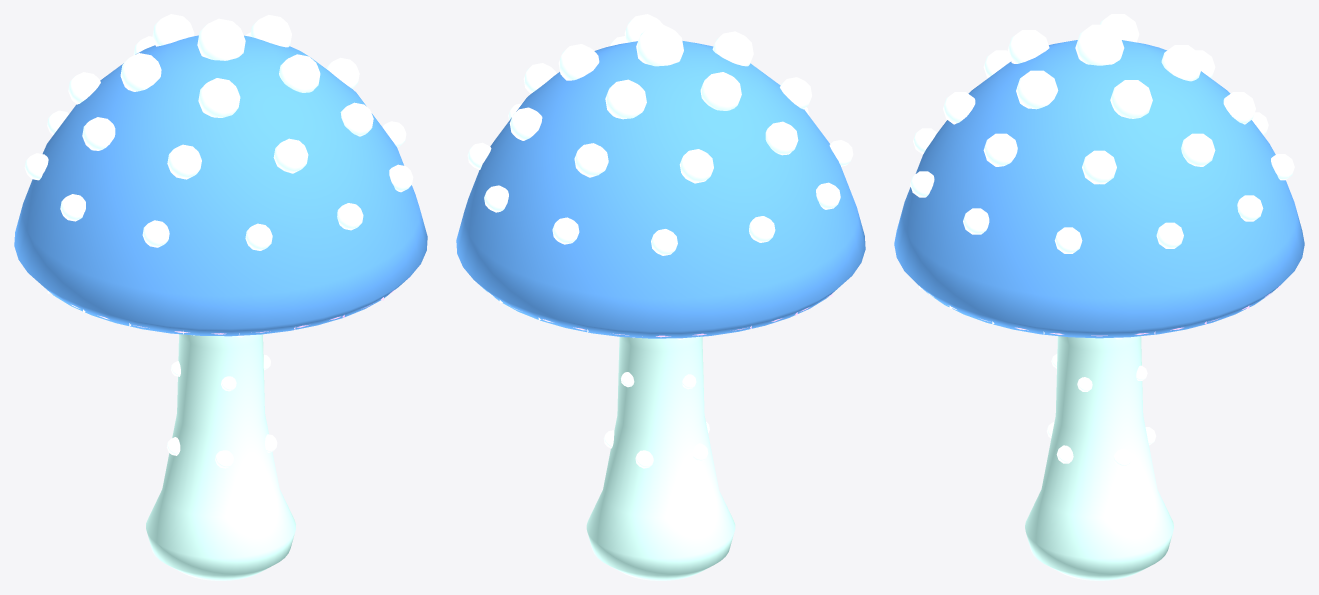
Rendered from glow_mushroom.glb.
3 renders of one model, left to right at view 1: azimuth 30°, elevation 25°; view 2: azimuth 150°, elevation 25°; view 3: azimuth 270°, elevation 25°, orthographic.
Visible parts, largest first — view 1: Mushroom_Cap, Mushroom_Stem, Mushroom_Spots, Mushroom_Freckles; view 2: Mushroom_Cap, Mushroom_Stem, Mushroom_Spots, Mushroom_Freckles; view 3: Mushroom_Cap, Mushroom_Stem, Mushroom_Spots, Mushroom_Freckles.
Part boxes in pixels (x1=…): Mushroom_Cap: x1=14, y1=35, x2=427, y2=336; Mushroom_Stem: x1=146, y1=334, x2=295, y2=580; Mushroom_Spots: x1=24, y1=14, x2=413, y2=250; Mushroom_Freckles: x1=166, y1=335, x2=277, y2=468; Mushroom_Cap: x1=456, y1=41, x2=865, y2=338; Mushroom_Stem: x1=586, y1=336, x2=735, y2=580; Mushroom_Spots: x1=467, y1=14, x2=853, y2=255; Mushroom_Freckles: x1=603, y1=337, x2=709, y2=468; Mushroom_Cap: x1=894, y1=40, x2=1304, y2=338; Mushroom_Stem: x1=1025, y1=336, x2=1173, y2=580; Mushroom_Spots: x1=910, y1=14, x2=1294, y2=253; Mushroom_Freckles: x1=1046, y1=337, x2=1156, y2=466.
Bounding box in the file's own units: 0.77 × 1.11 × 0.77.
